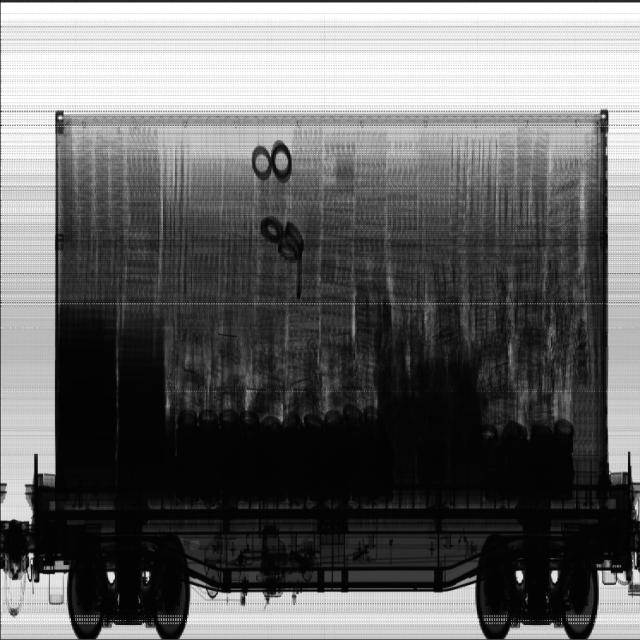shoes: (319, 132, 601, 389), (59, 128, 162, 314)
